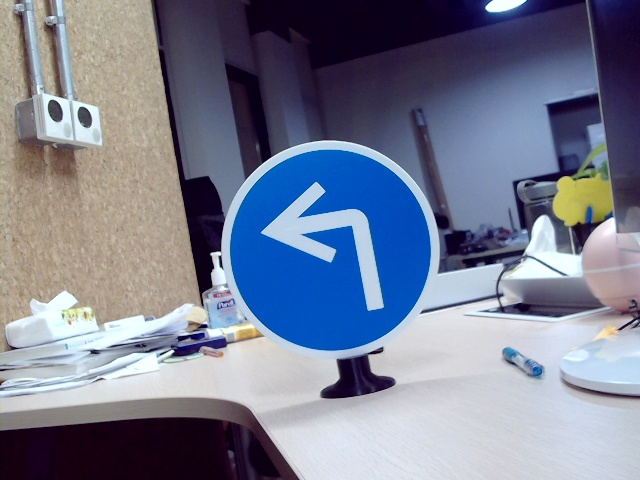turn_left: (262, 179, 403, 317)
